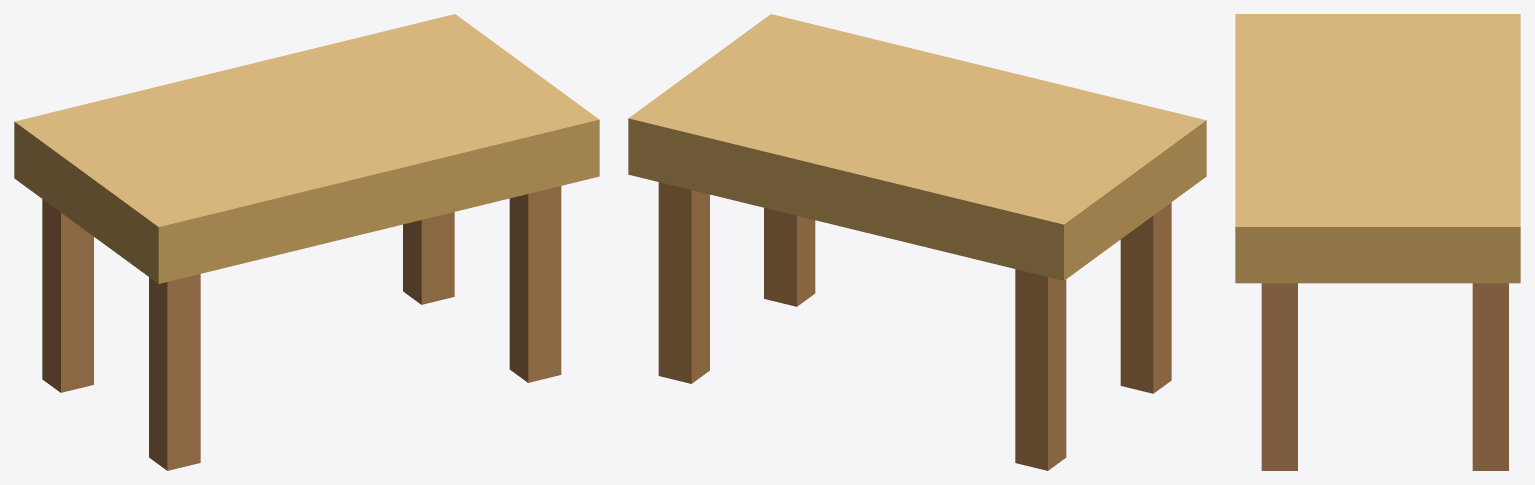
The model's file is Table.fbx.
3 views of the same model, side by side, from view 1: azimuth 30°, elevation 25°; view 2: azimuth 150°, elevation 25°; view 3: azimuth 270°, elevation 25° (orthographic).
Visible parts, largest first — view 1: GEOTable; view 2: GEOTable; view 3: GEOTable.
Boxes of the visible parts, x1,y1,x2,y2 form: GEOTable: (14,14,599,470); GEOTable: (628,14,1206,470); GEOTable: (1235,14,1520,470).
Size of the model in its own units: 798 by 448 by 452.
